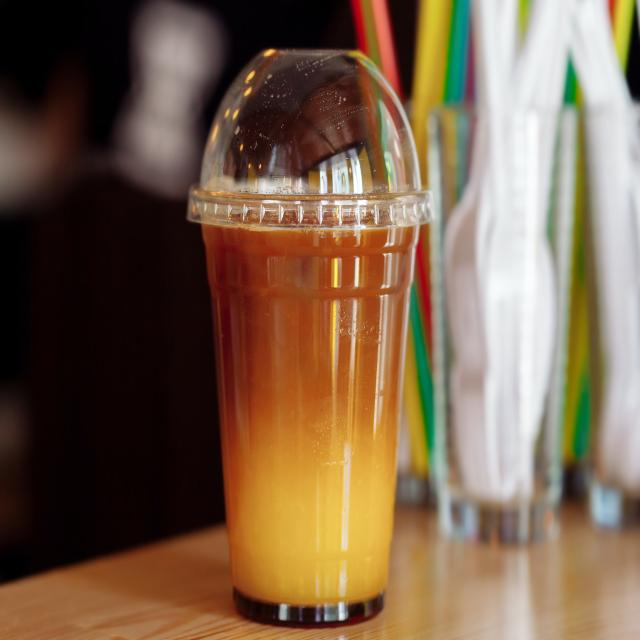cup: (185, 44, 436, 627)
